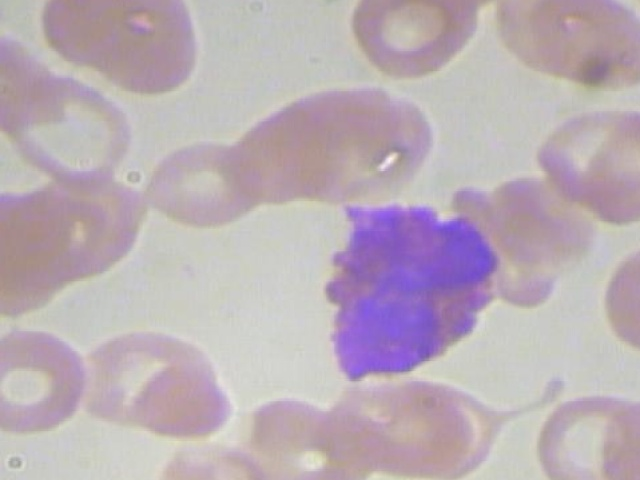Platelets: (0, 459, 3, 480)
RBC: (337, 374, 506, 480), (0, 73, 137, 194), (37, 0, 206, 98), (485, 0, 640, 95), (341, 0, 487, 82), (141, 136, 268, 228), (0, 322, 95, 438), (530, 386, 640, 480), (565, 107, 640, 226), (127, 356, 234, 436), (600, 227, 640, 367), (155, 436, 274, 480)
WBC: (304, 193, 514, 403)
